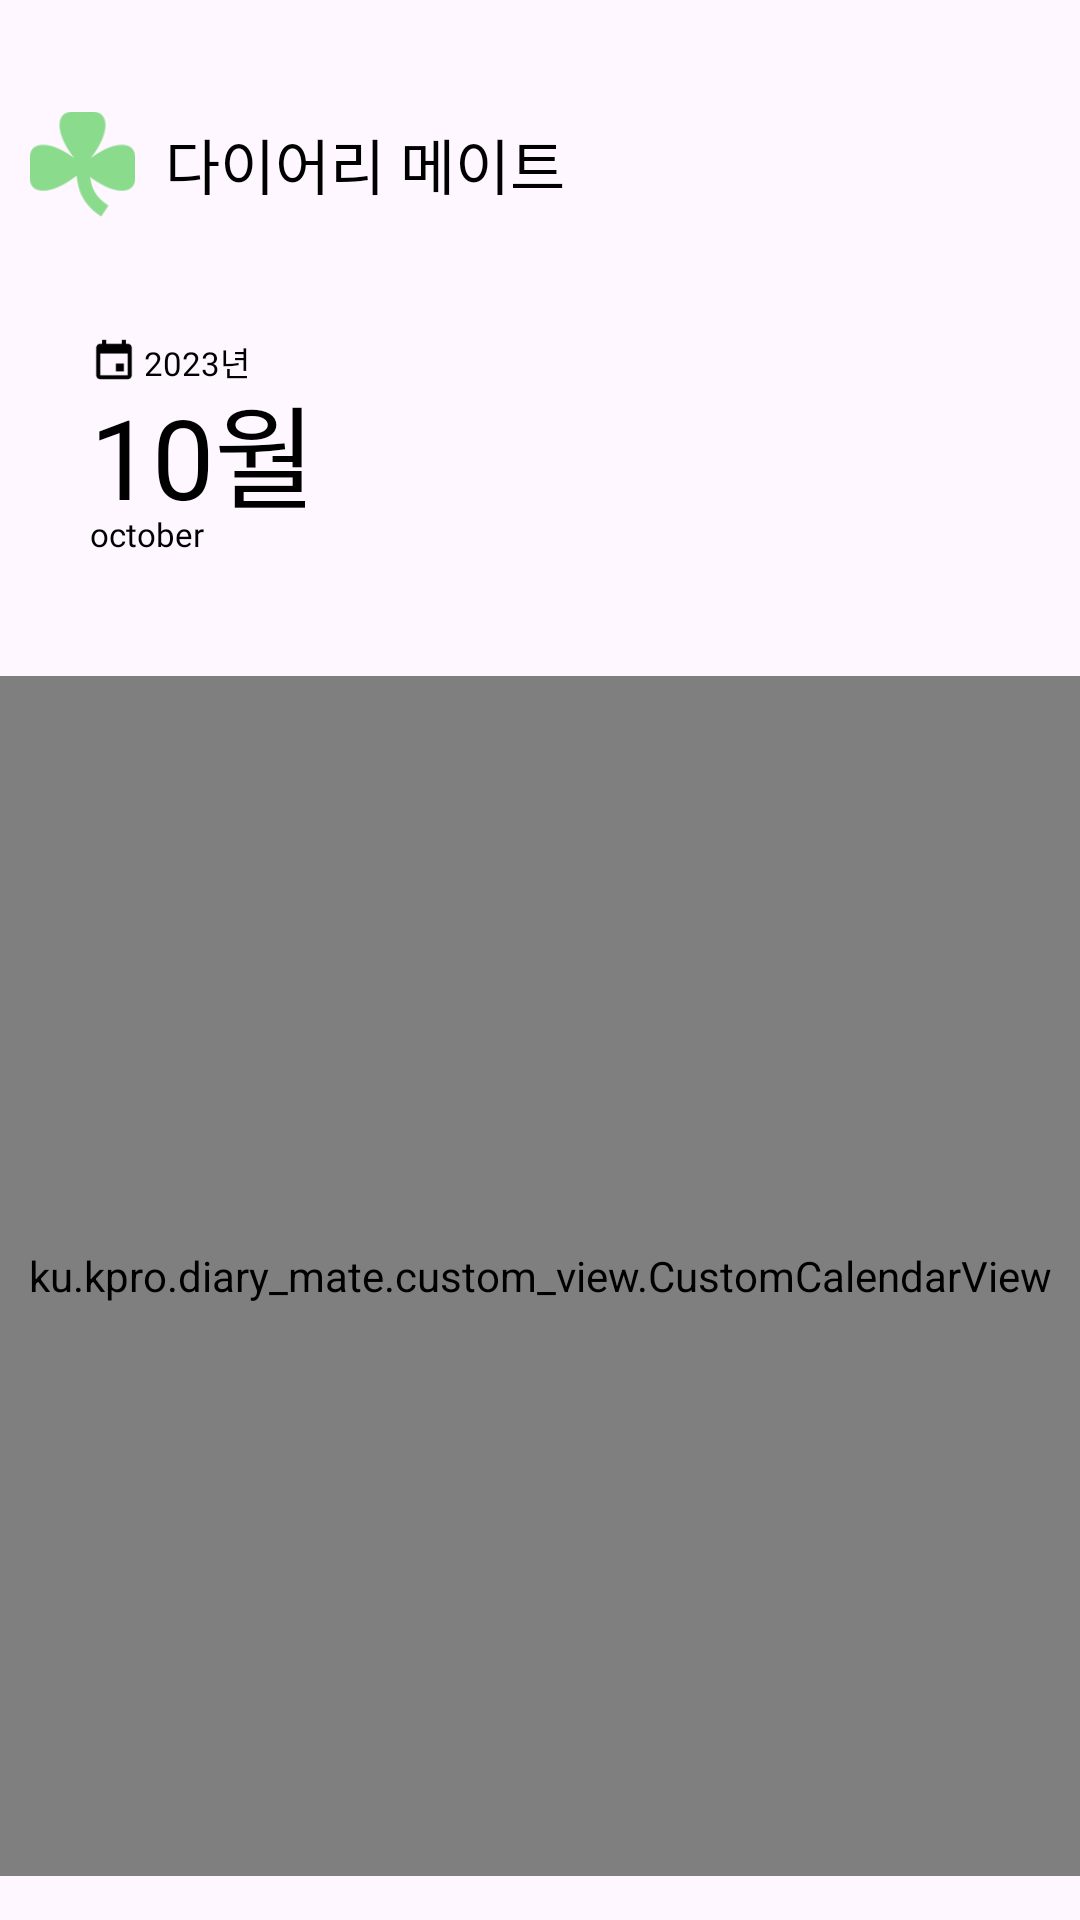

Icons on this 1080 x 1920 Android screen, each with its box as (x1, y1, x2, y2):
calendar: (96, 339, 132, 380)
clover: (30, 112, 135, 216)
